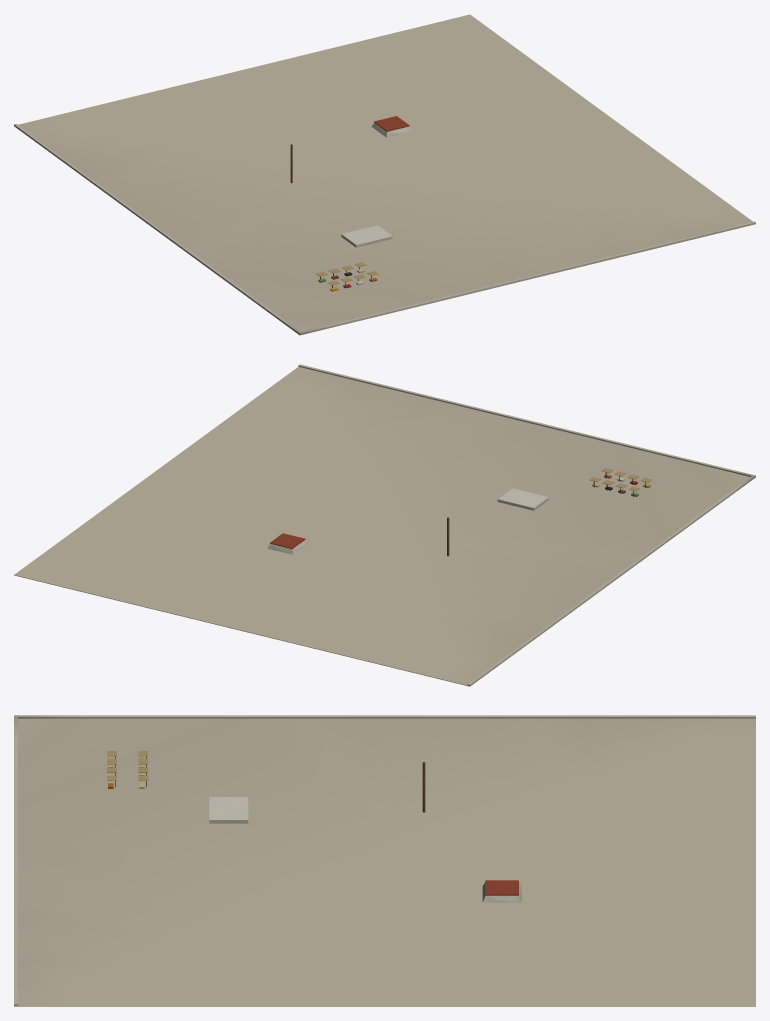
File: plaza-1519.glb
The picture shows the model from 3 angles, top to bottom: view 1: azimuth 30°, elevation 25°; view 2: azimuth 150°, elevation 25°; view 3: azimuth 270°, elevation 25°; orthographic projection. The views are drawn at different scales.
Parts seen in each view (by area): view 1: p0_square, p1_curb, p2_altars; view 2: p0_square, p1_curb, p2_altars; view 3: p0_square, p1_curb, p2_altars.
Part boxes in pixels (box(x1,y1,x2,y2)): p0_square: box(14, 14, 755, 335); p1_curb: box(14, 124, 755, 334); p2_altars: box(290, 116, 411, 291); p0_square: box(14, 366, 755, 686); p1_curb: box(298, 364, 755, 685); p2_altars: box(267, 468, 652, 556); p0_square: box(14, 718, 755, 1006); p1_curb: box(14, 715, 755, 1005); p2_altars: box(107, 751, 521, 902).
Size of the model in its own units: 175 by 14.2 by 190.
